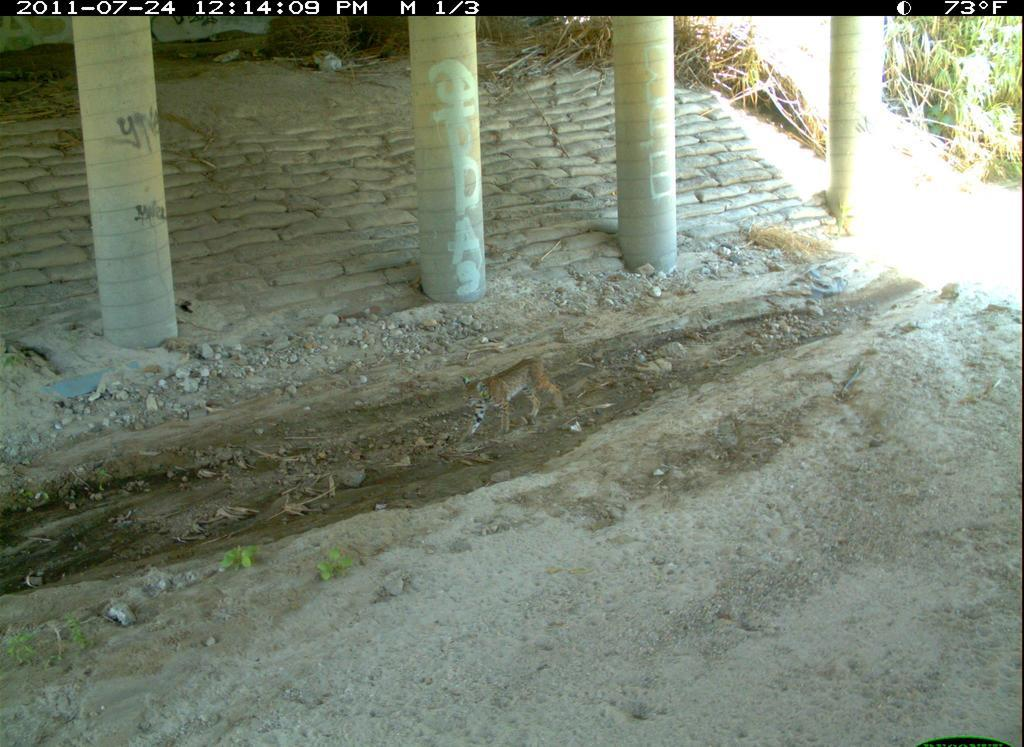bobcat: (911, 704, 1024, 747)
